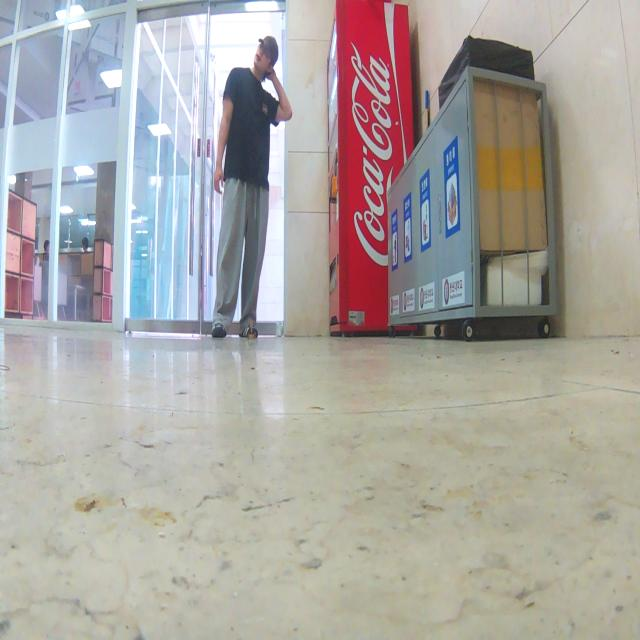target: (247, 316, 254, 344)
